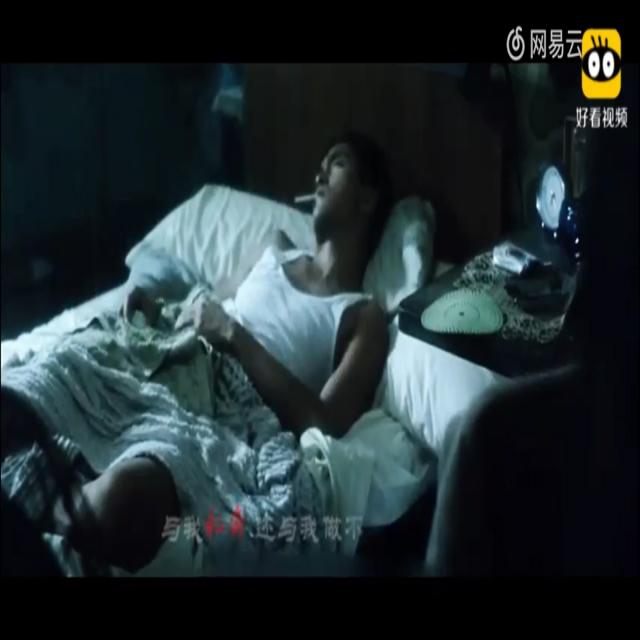cigarette: (292, 192, 319, 203)
